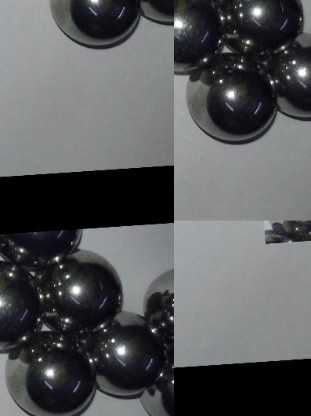ironball: (0, 332, 100, 414), (79, 299, 156, 394), (35, 249, 121, 331), (188, 57, 271, 141), (0, 261, 57, 349), (213, 0, 298, 59), (49, 0, 145, 45), (0, 230, 89, 271), (147, 266, 171, 344)
